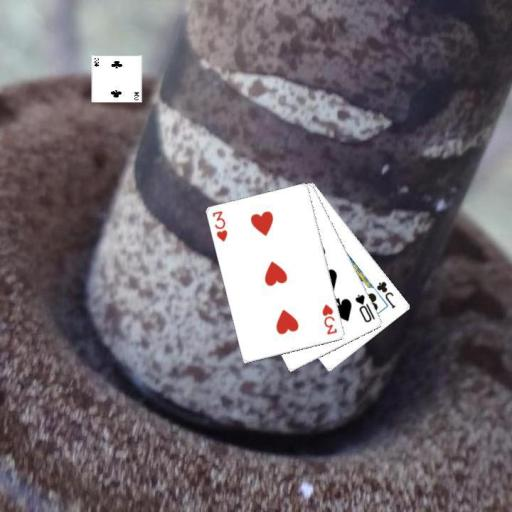10S: (352, 291, 377, 324)
3H: (209, 208, 229, 243), (320, 302, 339, 337)
JC: (374, 278, 398, 310)
